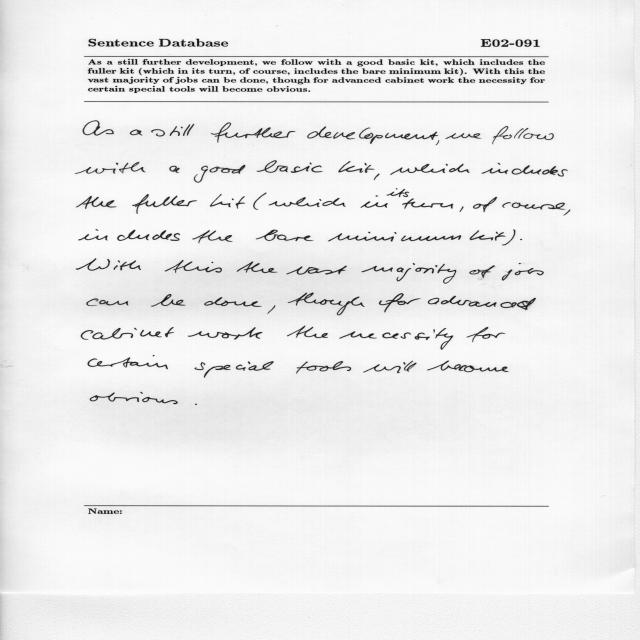word: (339, 328, 453, 350), (308, 126, 439, 144), (362, 263, 457, 284), (211, 123, 296, 143), (288, 293, 365, 315), (428, 296, 536, 310), (194, 361, 274, 378), (328, 232, 461, 242), (132, 194, 197, 214), (79, 229, 180, 241), (81, 327, 174, 340), (88, 356, 168, 370), (482, 163, 568, 176), (492, 126, 554, 144), (90, 392, 178, 404), (188, 327, 262, 340), (194, 165, 245, 183), (361, 189, 409, 208), (427, 361, 509, 372), (390, 164, 470, 175), (75, 162, 146, 174), (379, 294, 421, 313), (257, 161, 323, 173), (76, 259, 141, 271), (269, 197, 345, 207), (502, 263, 544, 281), (165, 260, 222, 273), (470, 230, 515, 246), (296, 361, 351, 374), (363, 361, 417, 373), (256, 230, 314, 241), (204, 297, 262, 307), (467, 327, 505, 342), (402, 198, 453, 209), (151, 124, 194, 137), (286, 266, 347, 275), (76, 196, 117, 209), (192, 230, 233, 243), (210, 194, 245, 209), (287, 326, 328, 338), (83, 121, 114, 136), (151, 294, 186, 307), (237, 262, 277, 273), (339, 161, 375, 173), (512, 203, 566, 210), (473, 197, 497, 212), (470, 265, 496, 278), (87, 299, 128, 306), (254, 193, 267, 210), (446, 133, 482, 139), (267, 305, 276, 314), (130, 130, 143, 136), (169, 166, 180, 173), (502, 202, 511, 208), (564, 210, 570, 216), (374, 174, 379, 180), (460, 206, 464, 212), (436, 140, 439, 145), (520, 239, 522, 240), (195, 404, 197, 405)
